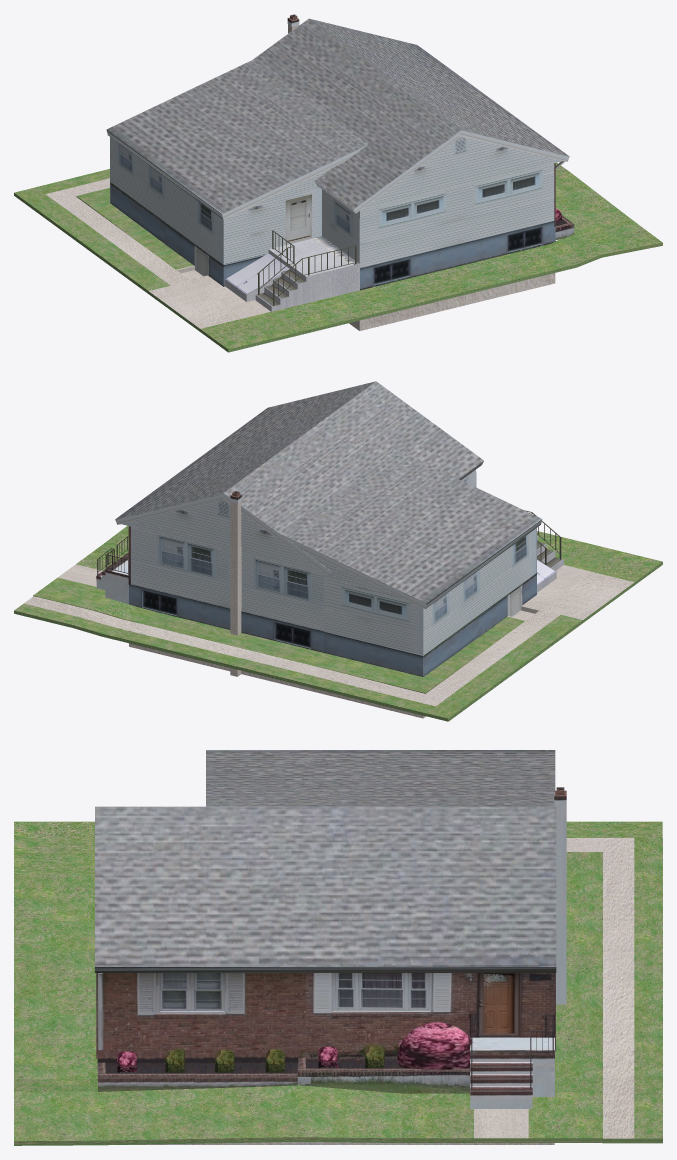
3 views of the same model, one above another, from view 1: azimuth 30°, elevation 25°; view 2: azimuth 150°, elevation 25°; view 3: azimuth 270°, elevation 25° (orthographic). The views are drawn at different scales.
Visible parts, largest first — view 1: Brick7_0, Grass_1; view 2: Brick7_0, Grass_1; view 3: Brick7_0, Grass_1.
Part boxes in pixels (left/top/right/bottom): Brick7_0: left=106, top=14, right=574, bottom=330; Grass_1: left=14, top=162, right=662, bottom=352; Brick7_0: left=96, top=381, right=563, bottom=718; Grass_1: left=14, top=525, right=662, bottom=721; Brick7_0: left=95, top=750, right=566, bottom=1144; Grass_1: left=14, top=821, right=662, bottom=1145.
Size of the model in its own units: 16.69 by 6.68 by 14.27.
Materials: 2 (2 with a texture image).
